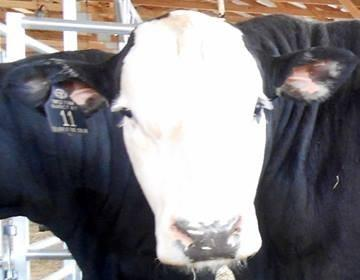muzzles: (152, 211, 264, 271)
